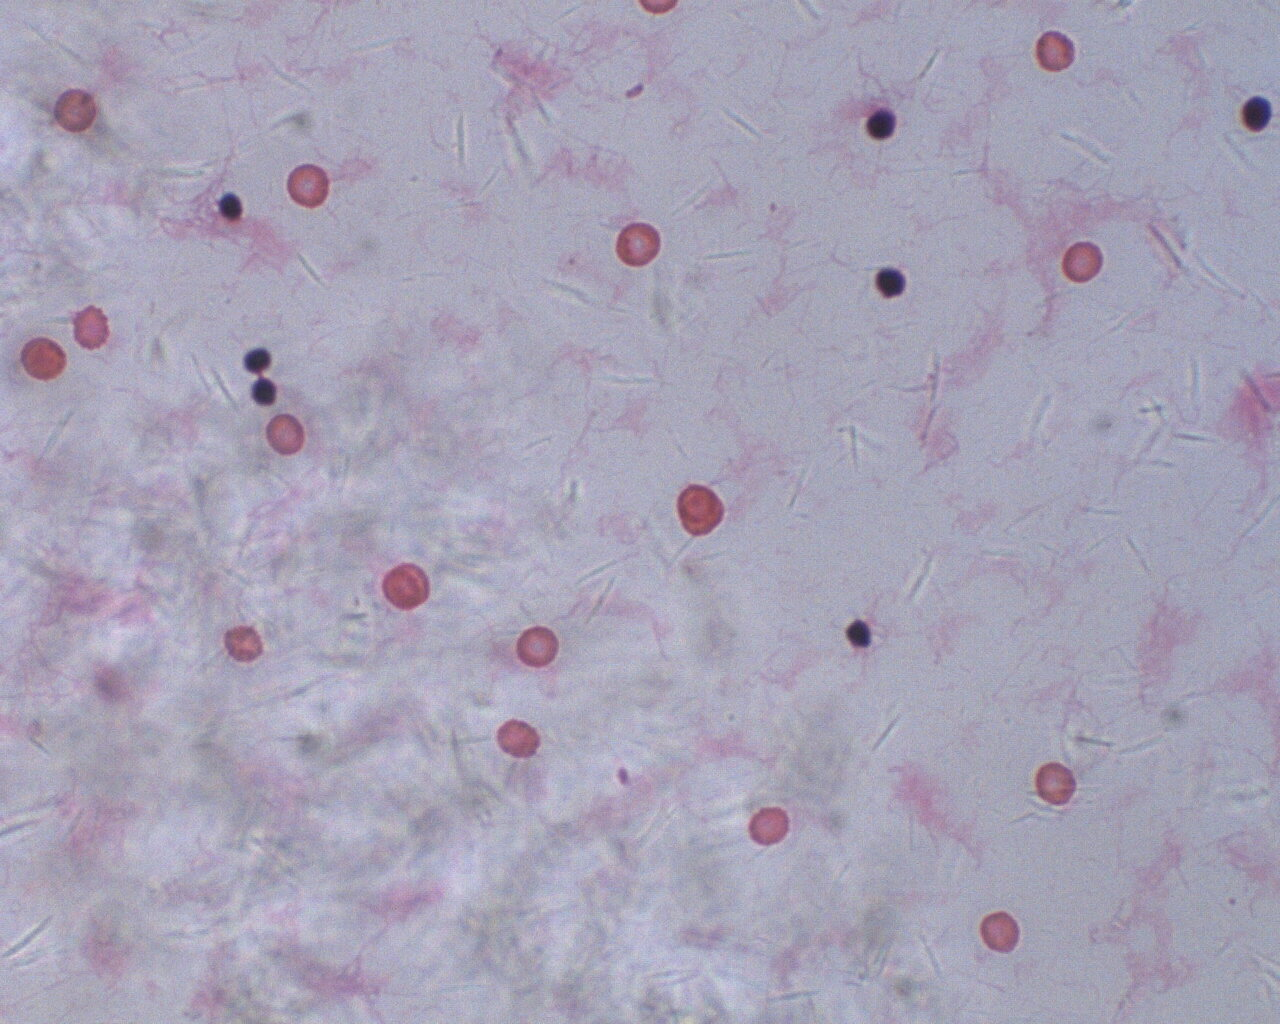lymph: (872, 261, 907, 306), (862, 106, 901, 144), (1242, 94, 1275, 136), (213, 186, 248, 225), (846, 614, 878, 653), (249, 374, 278, 405)
